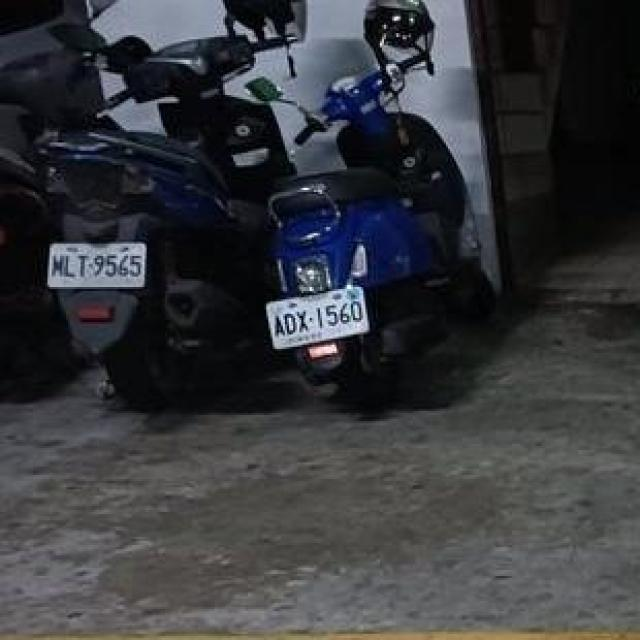W: (258, 279, 376, 351), (41, 231, 153, 293)
